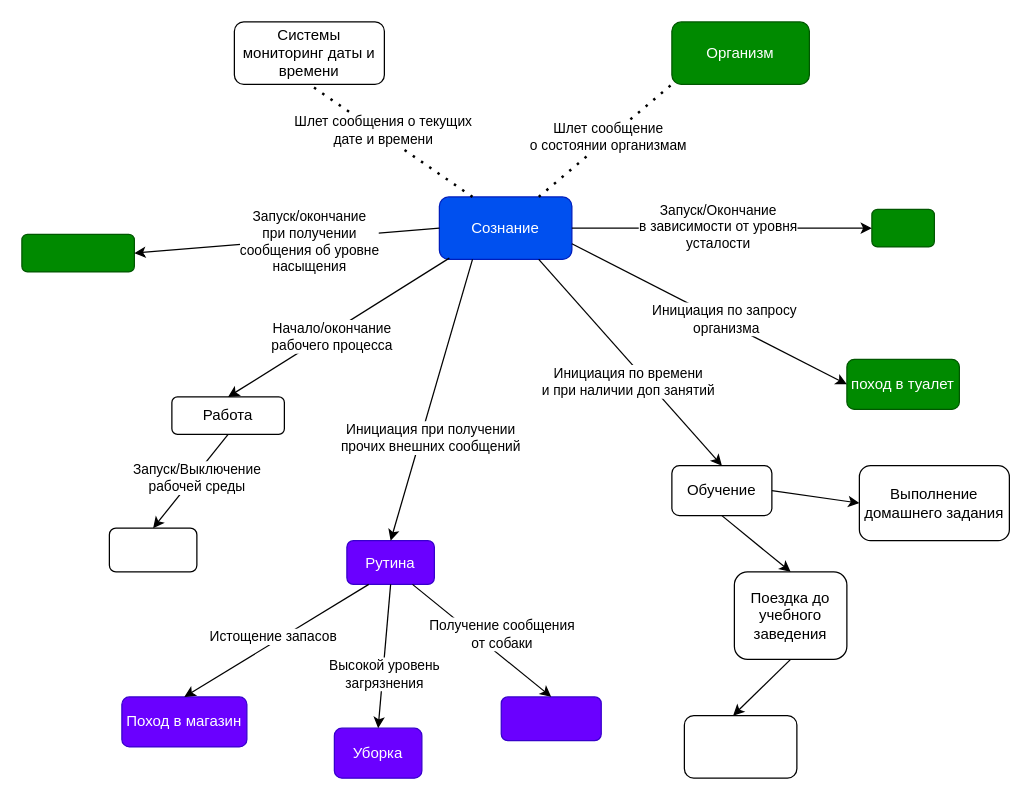
Some shapes in this 1031 by 800 pixel diagram are drawn without their labels. The shapes that lost their labels are listed below. From the top down, each one's centre as x and y in pixels, then its label:
At (902,227): "Сон".
At (77,252): "Прием пищи".
At (152,549): "Ubuntu".
At (550,718): "Прогулка с собакой".
At (740,746): "Занятие".
